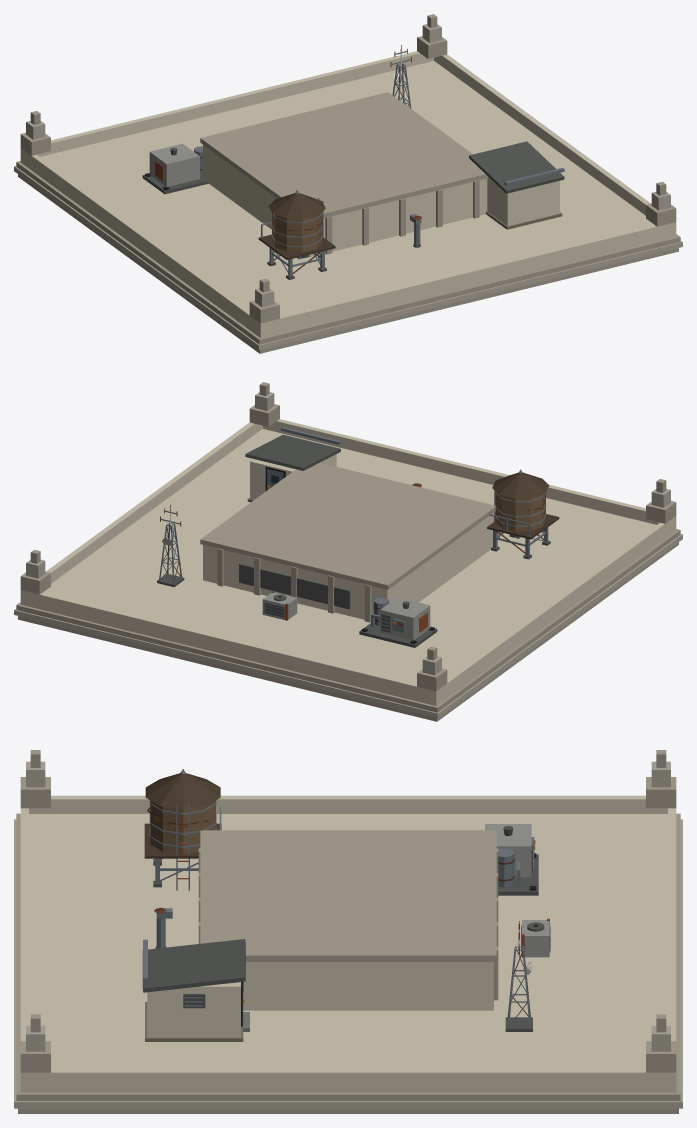
Rendered from tw_deco_24_crown.glb.
3 renders of one model, top to bottom at view 1: azimuth 30°, elevation 25°; view 2: azimuth 150°, elevation 25°; view 3: azimuth 270°, elevation 25°, orthographic. The views are drawn at different scales.
Parts seen in each view (by area): view 1: tw_deco_24_crown; view 2: tw_deco_24_crown; view 3: tw_deco_24_crown.
Part boxes in pixels (<box>): tw_deco_24_crown: <box>14,14,682,353</box>; tw_deco_24_crown: <box>14,382,682,721</box>; tw_deco_24_crown: <box>14,750,682,1113</box>.
Size of the model in its own units: 24.28 by 5.25 by 24.28.
3 materials, 3 textured.
